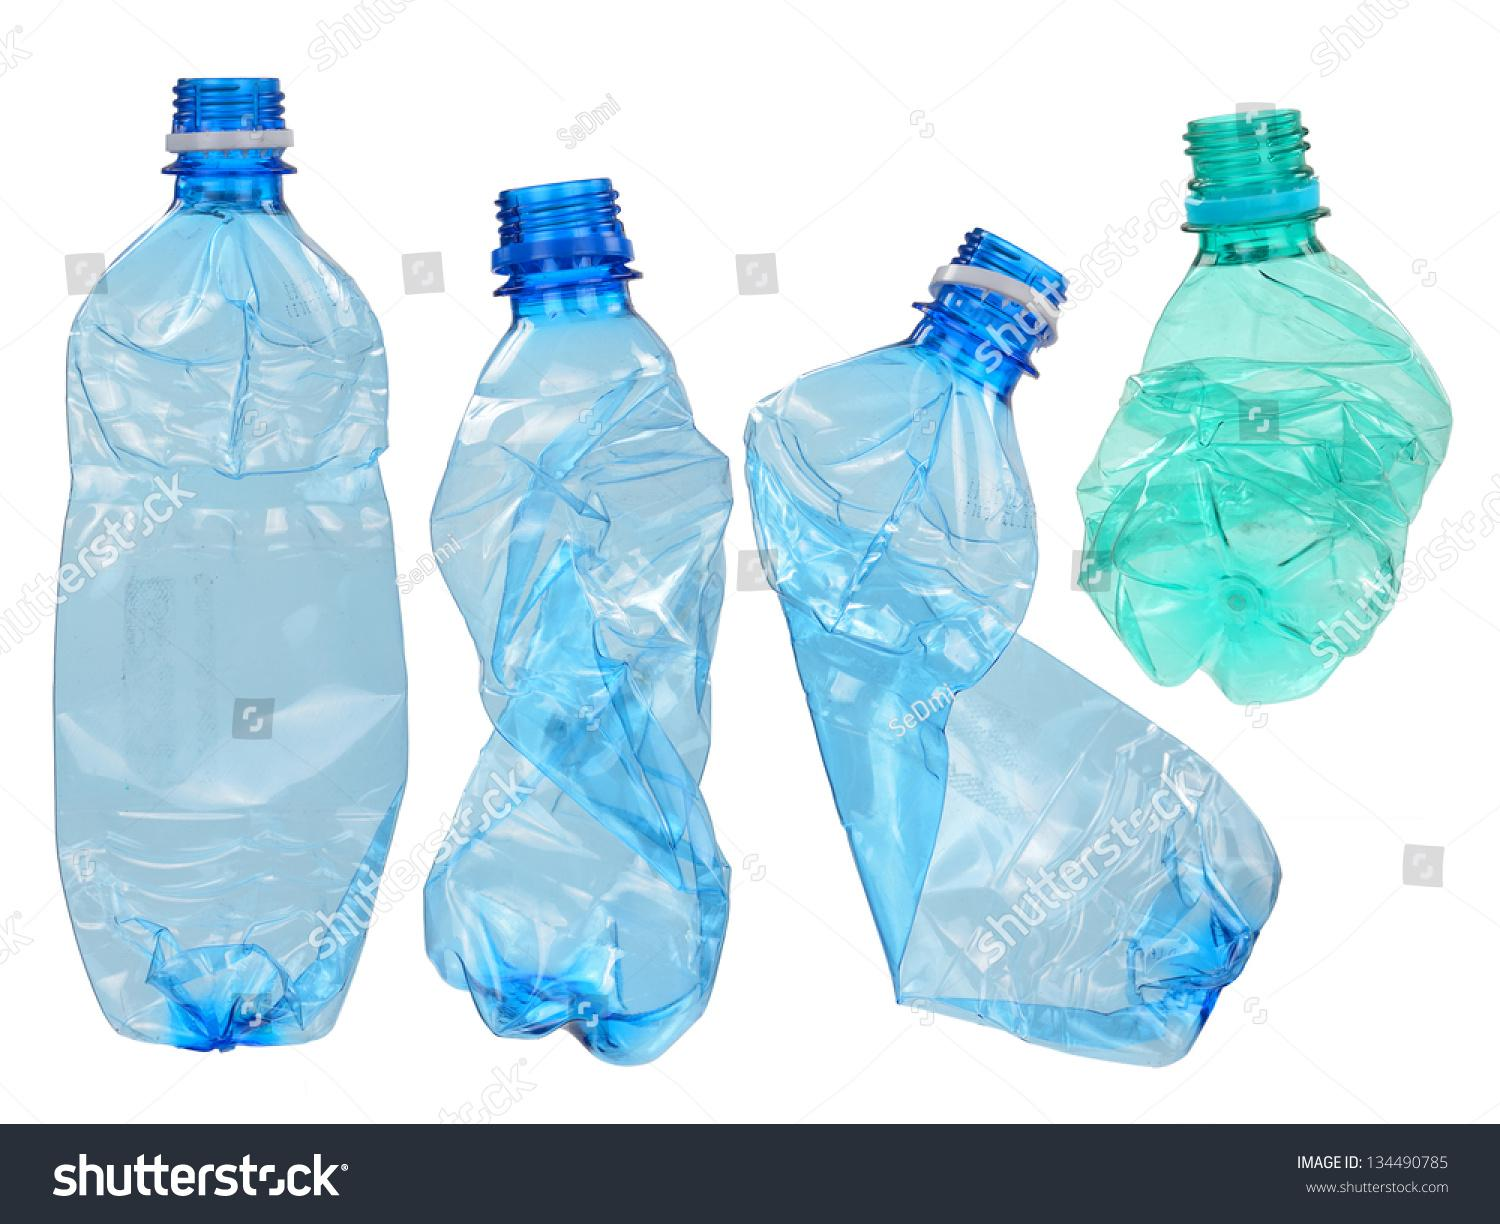plastic: (743, 229, 1250, 1069), (49, 74, 410, 1058), (427, 178, 730, 1067), (1075, 108, 1456, 714)
